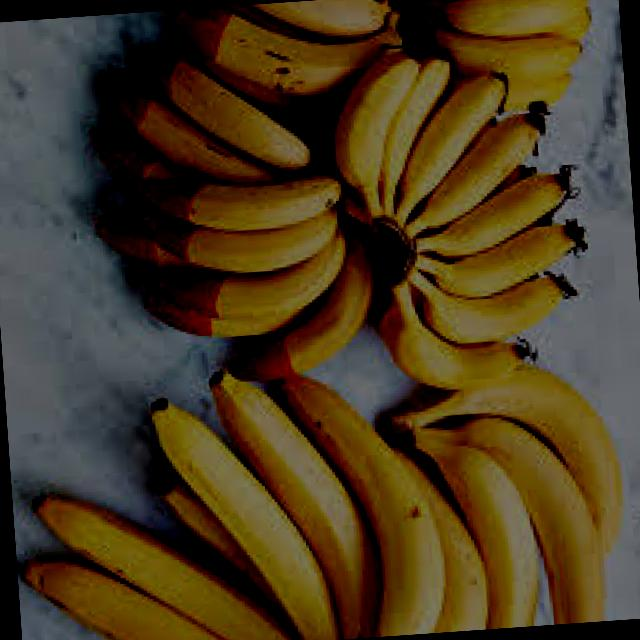Banana: (5, 354, 488, 640), (80, 32, 388, 393), (326, 31, 598, 396), (372, 355, 638, 636), (161, 0, 413, 130), (404, 0, 599, 116)
